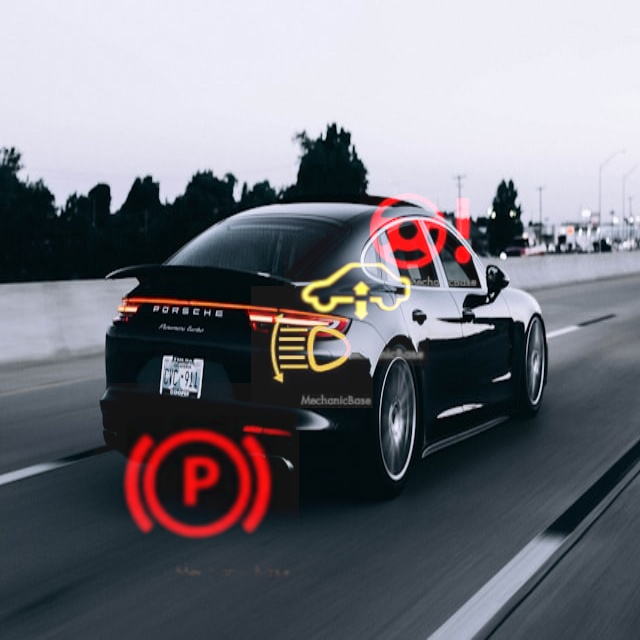symbol: (94, 383, 299, 588), (284, 221, 429, 366), (251, 286, 373, 408), (360, 171, 481, 292)
